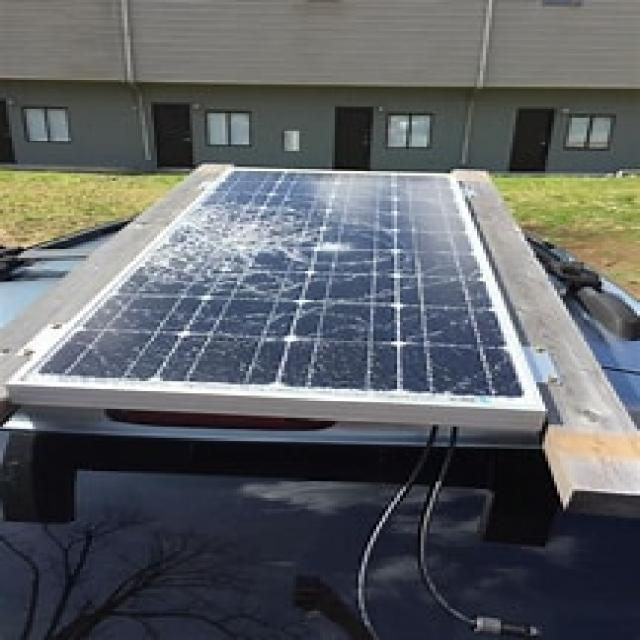faulty: (15, 167, 546, 406)
